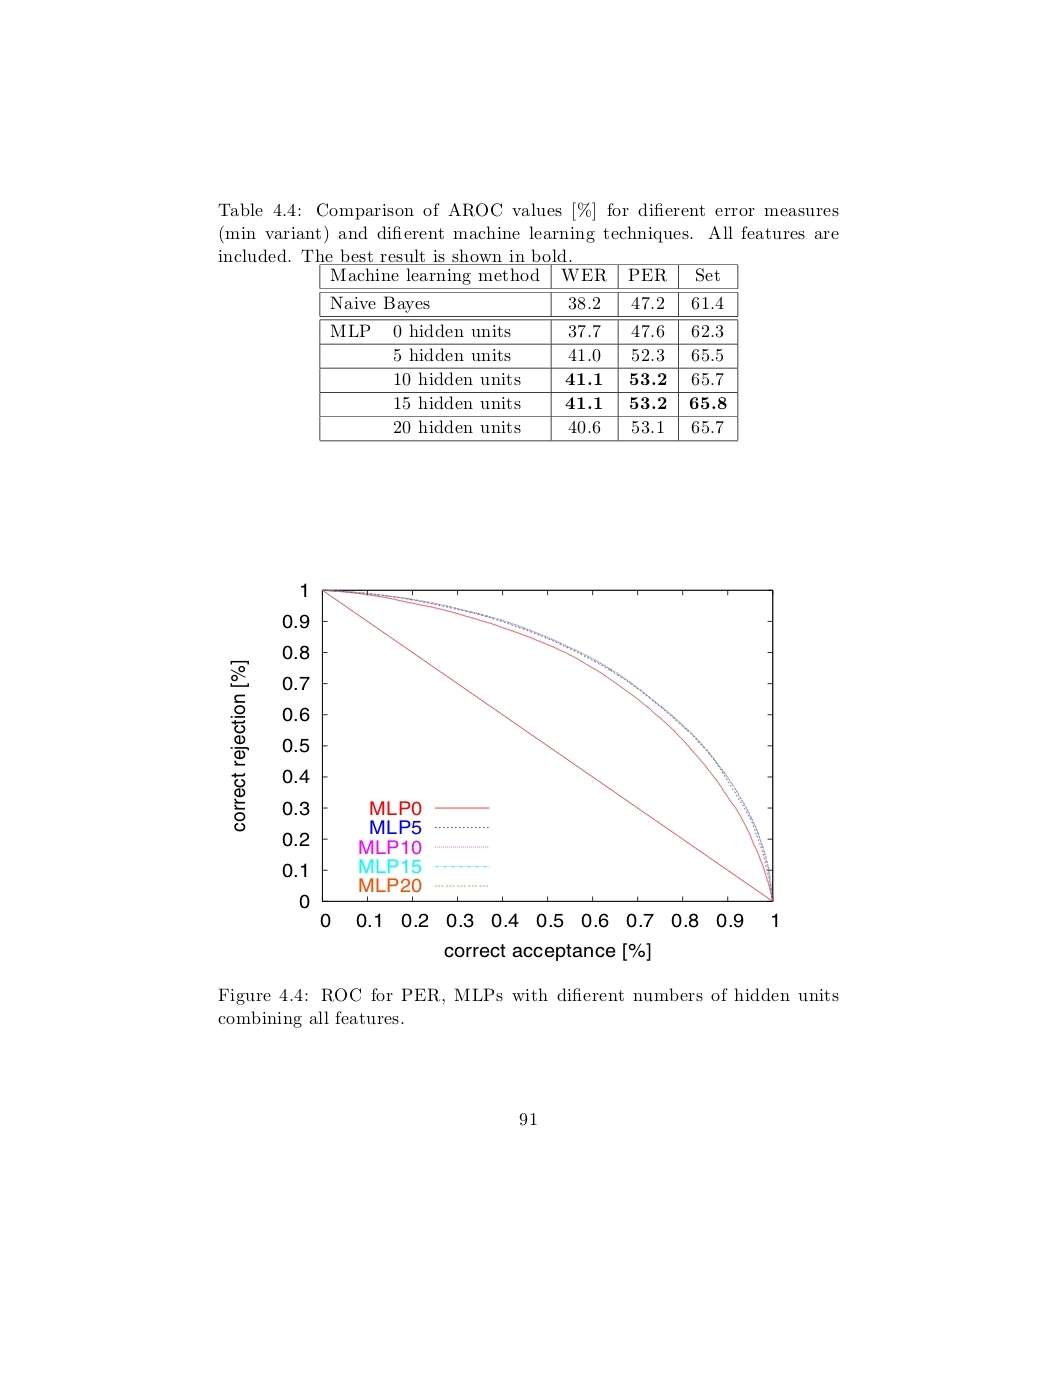Table: (319, 264, 738, 441)
figure: (230, 583, 777, 960)
